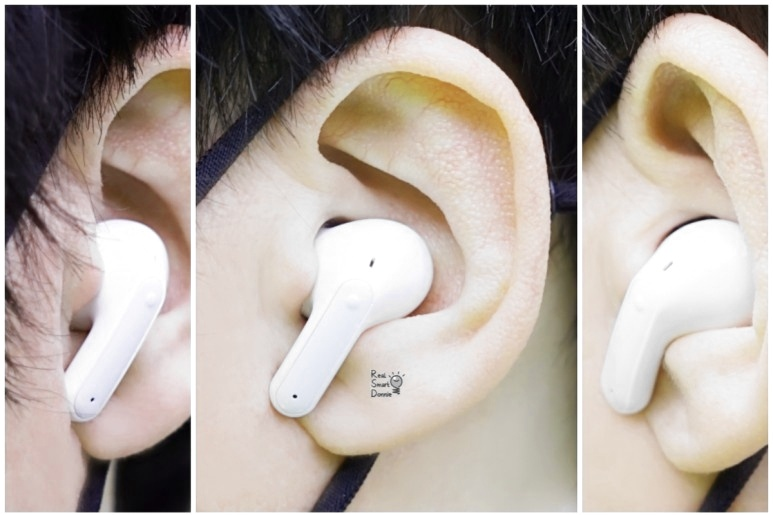earphone: (267, 25, 554, 457), (617, 13, 767, 474), (64, 23, 192, 460)
